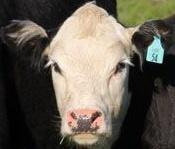muzzles: (58, 109, 110, 146)
